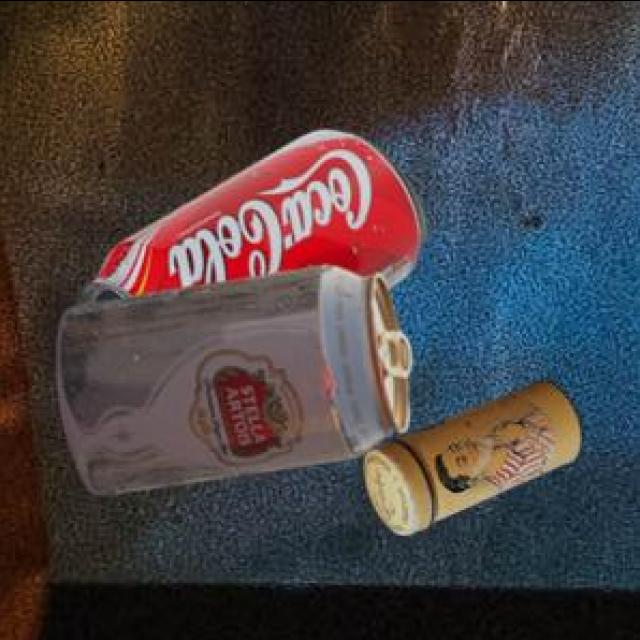logam: (53, 267, 409, 497), (74, 132, 424, 307), (362, 383, 581, 538)
